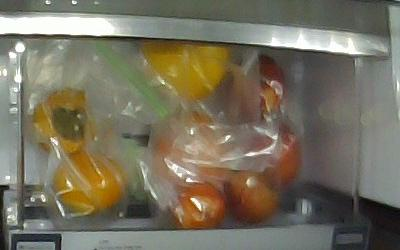apple_vinyl: (234, 123, 301, 192), (220, 56, 285, 122)
grapefruit_vinyl: (152, 111, 228, 192), (137, 39, 230, 101)
persimmon_vinyl: (54, 153, 128, 214), (33, 89, 96, 153)
prune_vinyl: (226, 170, 280, 223), (170, 181, 226, 229)
